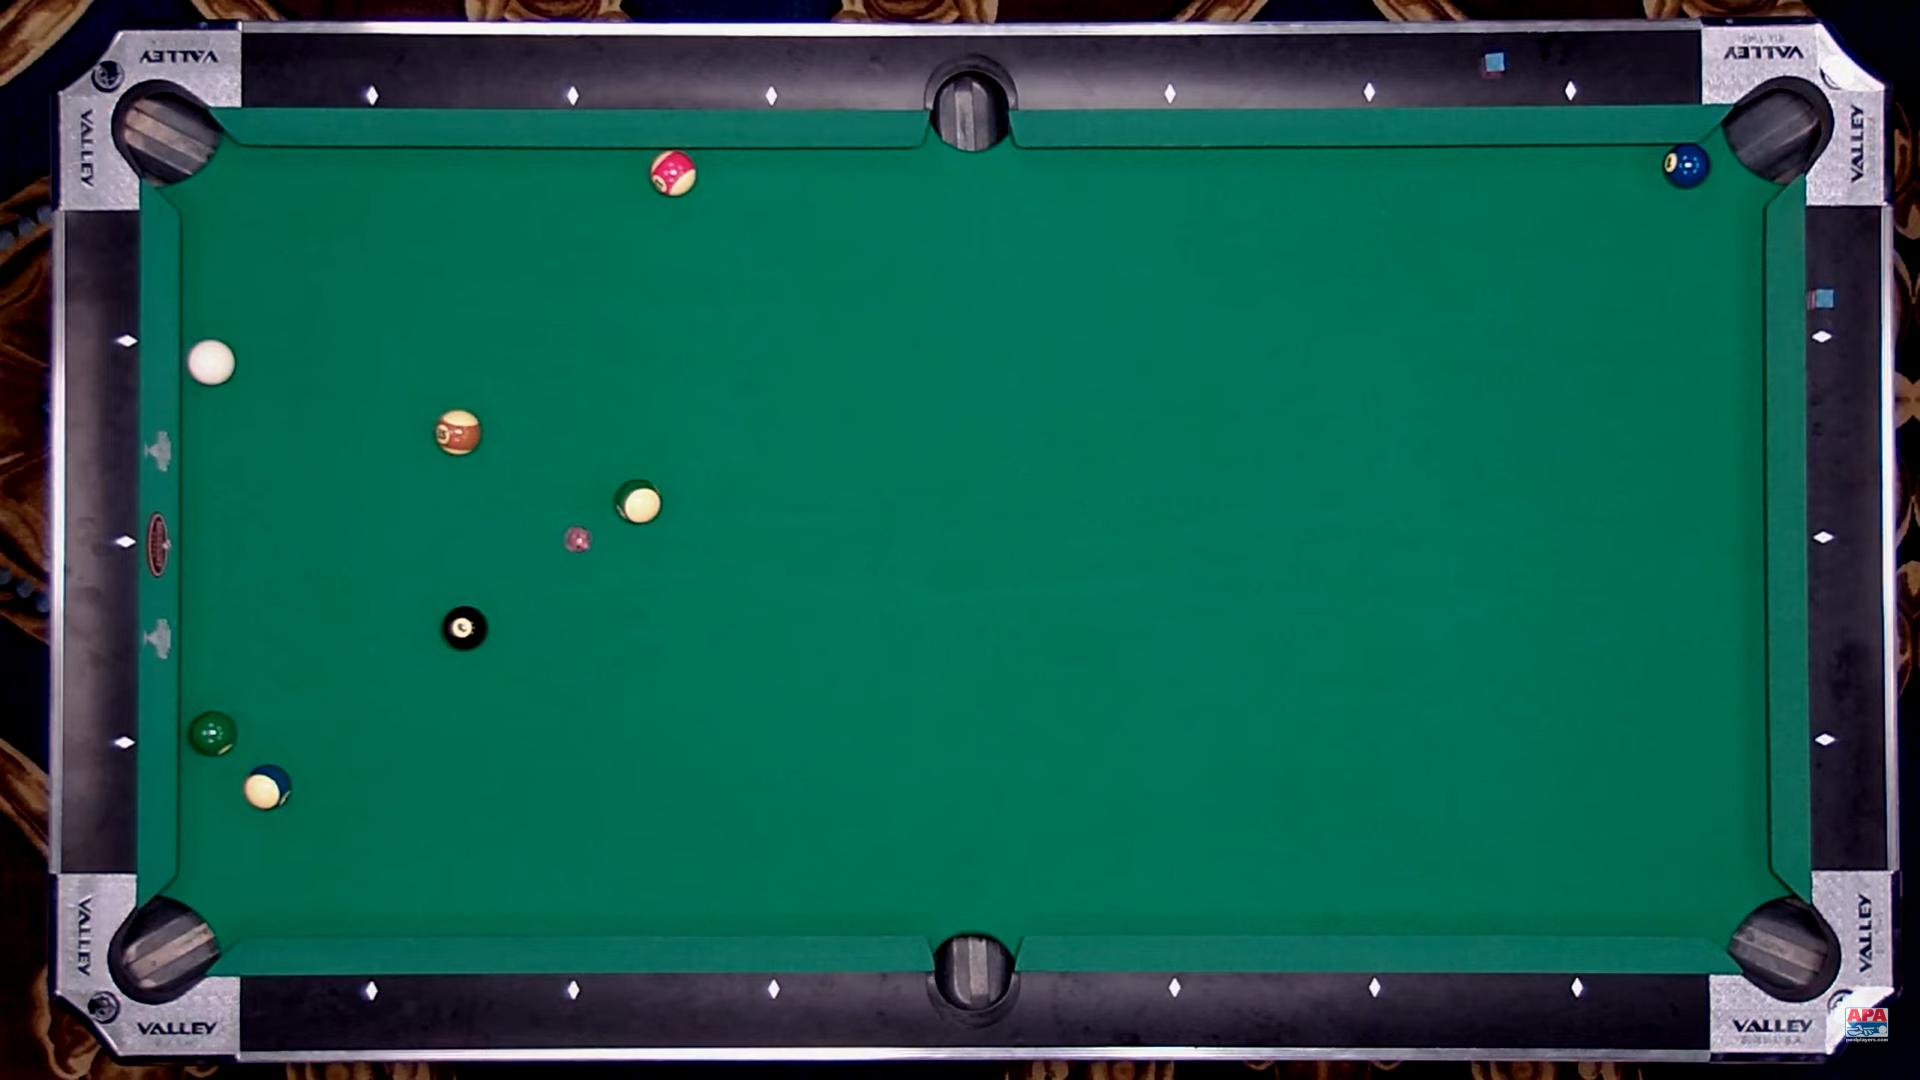Black: (443, 607, 488, 650)
Cue: (189, 339, 236, 386)
Dot: (564, 90, 579, 104), (1163, 87, 1178, 102), (1364, 84, 1378, 99), (1563, 84, 1577, 99), (1815, 328, 1829, 343), (1167, 981, 1182, 996), (767, 982, 782, 997), (764, 91, 778, 104), (1818, 733, 1833, 746), (1571, 981, 1584, 996), (1367, 981, 1382, 994), (567, 985, 582, 998), (365, 985, 378, 1000), (117, 736, 132, 749), (120, 534, 133, 549), (367, 90, 380, 103), (1817, 531, 1830, 545), (121, 331, 135, 344)
Solid: (1663, 144, 1709, 190), (191, 711, 237, 756)
Striped: (650, 150, 696, 198), (615, 479, 662, 525), (244, 764, 291, 810), (435, 410, 481, 455)
